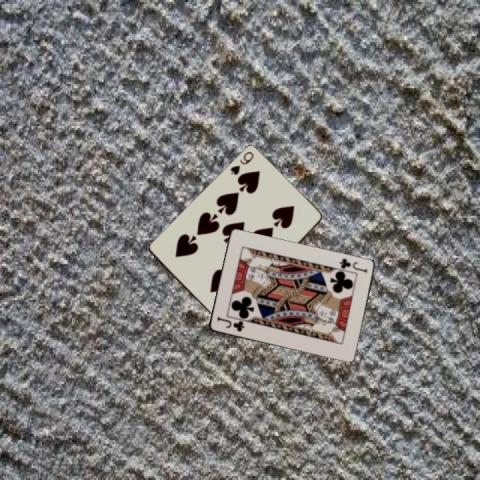9s: (228, 148, 256, 176)
Jc: (336, 255, 368, 275), (214, 314, 245, 333)
